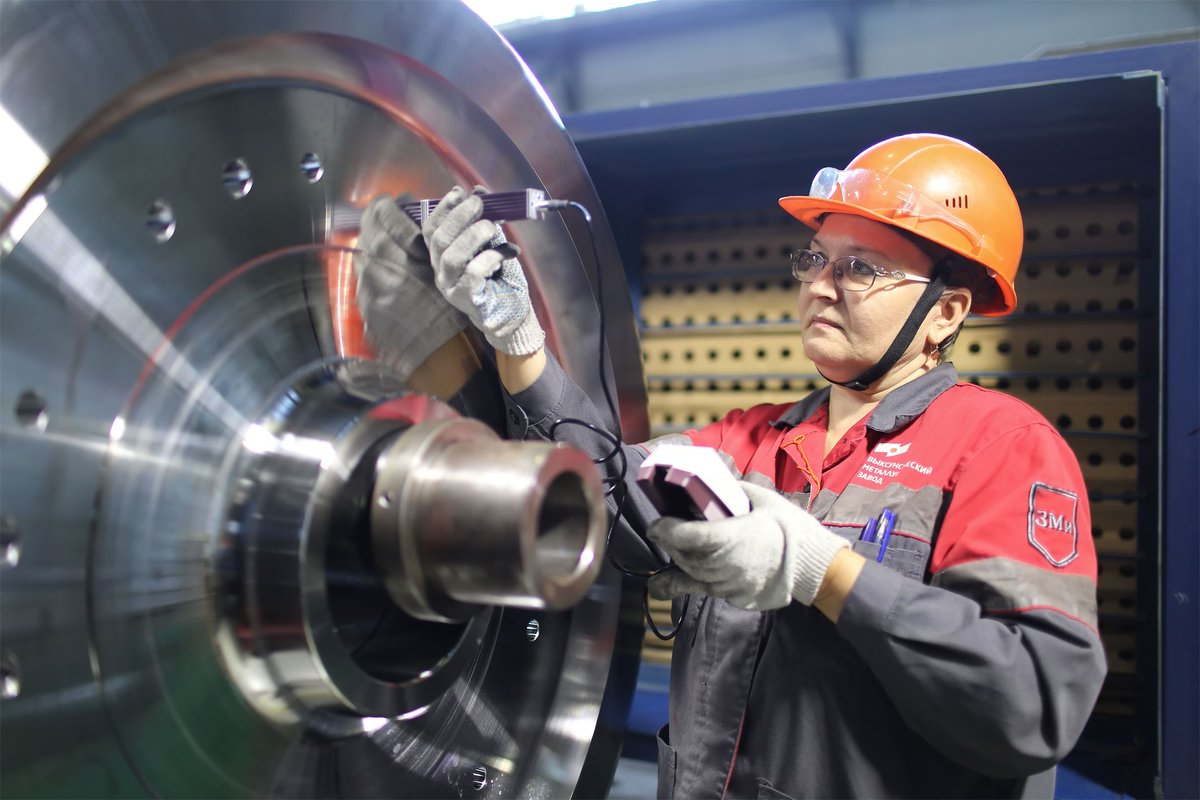person: (422, 132, 1108, 800)
